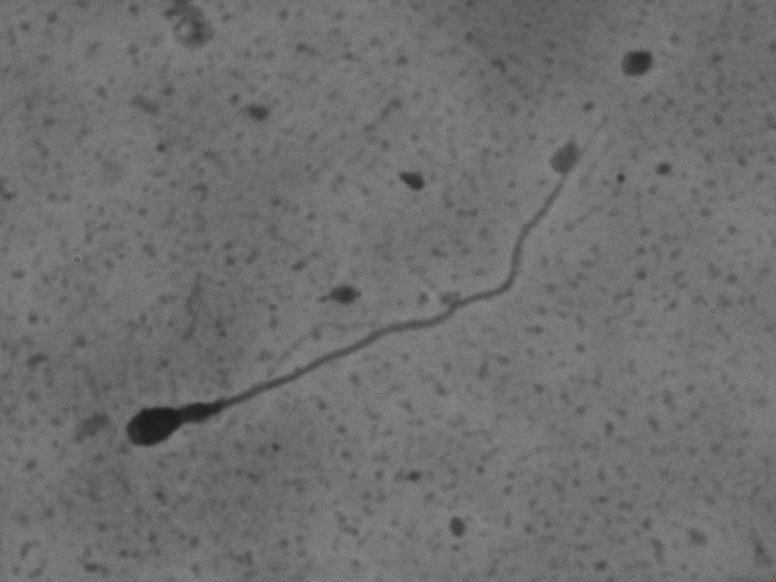Abnormal: (94, 134, 608, 480)
